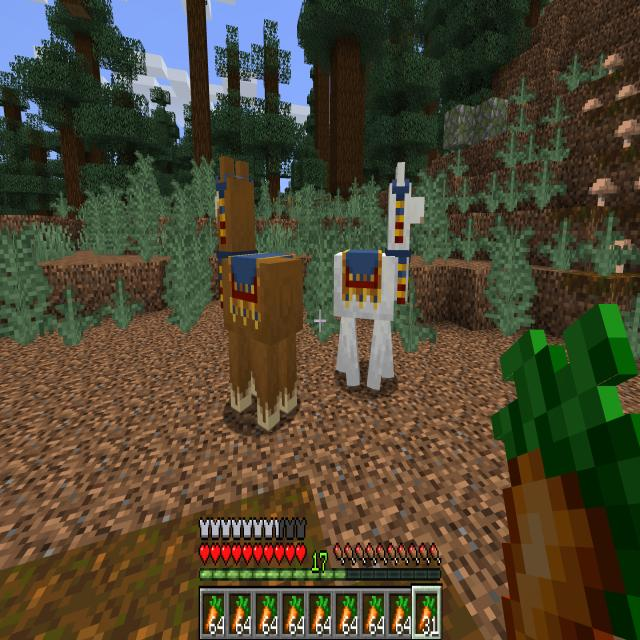Trader Lama: (213, 154, 305, 431), (334, 162, 426, 392)
